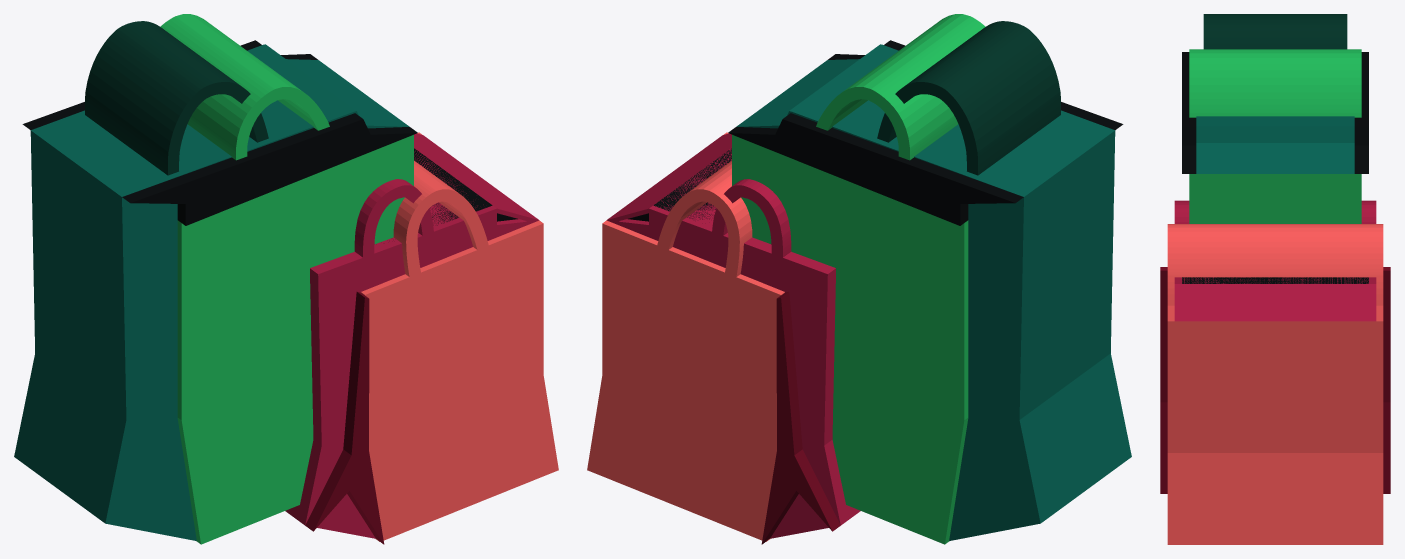
The picture shows the model from 3 angles, left to right: view 1: azimuth 30°, elevation 25°; view 2: azimuth 150°, elevation 25°; view 3: azimuth 270°, elevation 25°; orthographic projection. The views are drawn at different scales.
Visible parts, largest first — view 1: U+1F6CD_layer01_obj04, U+1F6CD_layer02_obj00, U+1F6CD_layer05_obj00, U+1F6CD_layer04_obj01, U+1F6CD_layer00_obj00, U+1F6CD_layer03_obj01, U+1F6CD_layer02_obj01, U+1F6CD_layer06_obj00, U+1F6CD_layer05_obj01, U+1F6CD_layer01_obj02, U+1F6CD_layer04_obj02, U+1F6CD_layer04_obj00 (+1 smaller); view 2: U+1F6CD_layer01_obj04, U+1F6CD_layer02_obj00, U+1F6CD_layer05_obj00, U+1F6CD_layer04_obj01, U+1F6CD_layer00_obj00, U+1F6CD_layer03_obj01, U+1F6CD_layer02_obj01, U+1F6CD_layer06_obj00, U+1F6CD_layer05_obj01, U+1F6CD_layer04_obj02, U+1F6CD_layer04_obj00, U+1F6CD_layer01_obj02 (+1 smaller); view 3: U+1F6CD_layer05_obj00, U+1F6CD_layer05_obj01, U+1F6CD_layer02_obj01, U+1F6CD_layer02_obj00, U+1F6CD_layer01_obj02, U+1F6CD_layer04_obj02, U+1F6CD_layer00_obj00, U+1F6CD_layer06_obj00, U+1F6CD_layer03_obj01, U+1F6CD_layer01_obj04, U+1F6CD_layer03_obj00, U+1F6CD_layer04_obj00 (+1 smaller).
Boxes of the visible parts, x1=… form: U+1F6CD_layer01_obj04: x1=14, y1=44, x2=354, y2=540; U+1F6CD_layer02_obj00: x1=177, y1=134, x2=413, y2=544; U+1F6CD_layer05_obj00: x1=361, y1=132, x2=558, y2=541; U+1F6CD_layer04_obj01: x1=285, y1=148, x2=538, y2=538; U+1F6CD_layer00_obj00: x1=85, y1=21, x2=268, y2=175; U+1F6CD_layer03_obj01: x1=22, y1=40, x2=417, y2=225; U+1F6CD_layer02_obj01: x1=160, y1=14, x2=345, y2=222; U+1F6CD_layer06_obj00: x1=305, y1=291, x2=384, y2=544; U+1F6CD_layer05_obj01: x1=393, y1=160, x2=488, y2=298; U+1F6CD_layer01_obj02: x1=142, y1=44, x2=409, y2=189; U+1F6CD_layer04_obj02: x1=320, y1=133, x2=538, y2=284; U+1F6CD_layer04_obj00: x1=354, y1=179, x2=434, y2=274; U+1F6CD_layer01_obj04: x1=791, y1=44, x2=1131, y2=540; U+1F6CD_layer02_obj00: x1=732, y1=134, x2=968, y2=544; U+1F6CD_layer05_obj00: x1=587, y1=132, x2=784, y2=541; U+1F6CD_layer04_obj01: x1=607, y1=148, x2=860, y2=538; U+1F6CD_layer00_obj00: x1=877, y1=21, x2=1060, y2=175; U+1F6CD_layer03_obj01: x1=728, y1=40, x2=1123, y2=225; U+1F6CD_layer02_obj01: x1=800, y1=14, x2=985, y2=222; U+1F6CD_layer06_obj00: x1=761, y1=291, x2=840, y2=544; U+1F6CD_layer05_obj01: x1=653, y1=160, x2=752, y2=299; U+1F6CD_layer04_obj02: x1=607, y1=133, x2=826, y2=291; U+1F6CD_layer04_obj00: x1=711, y1=179, x2=791, y2=276; U+1F6CD_layer01_obj02: x1=736, y1=44, x2=1003, y2=189; U+1F6CD_layer05_obj00: x1=1167, y1=305, x2=1383, y2=544; U+1F6CD_layer05_obj01: x1=1167, y1=224, x2=1383, y2=305; U+1F6CD_layer02_obj01: x1=1189, y1=49, x2=1361, y2=117; U+1F6CD_layer02_obj00: x1=1189, y1=174, x2=1361, y2=223; U+1F6CD_layer01_obj02: x1=1196, y1=125, x2=1354, y2=173; U+1F6CD_layer04_obj02: x1=1174, y1=284, x2=1376, y2=321; U+1F6CD_layer00_obj00: x1=1203, y1=14, x2=1347, y2=49; U+1F6CD_layer06_obj00: x1=1160, y1=267, x2=1390, y2=493; U+1F6CD_layer03_obj01: x1=1182, y1=52, x2=1368, y2=173; U+1F6CD_layer01_obj04: x1=1196, y1=116, x2=1354, y2=125; U+1F6CD_layer03_obj00: x1=1182, y1=277, x2=1368, y2=283; U+1F6CD_layer04_obj00: x1=1174, y1=200, x2=1376, y2=223.
Size of the model in its own units: 0.3041 by 0.3186 by 0.16.
